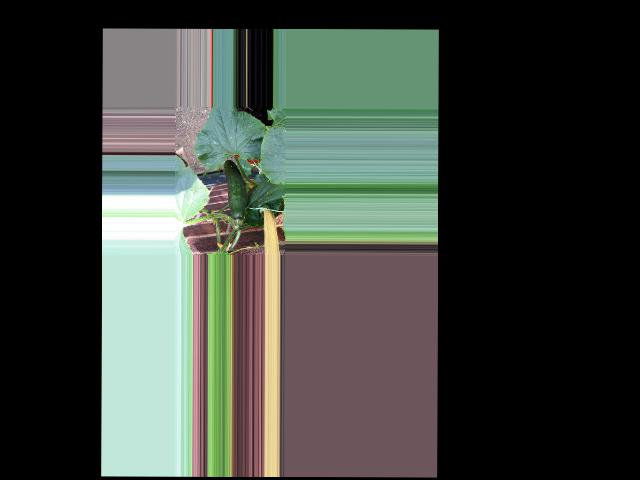cucumber: (223, 159, 246, 220)
